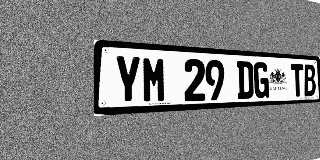2: (184, 58, 205, 101)
9: (205, 59, 225, 100)
B: (303, 64, 316, 96)
D: (237, 61, 254, 99)
G: (253, 62, 269, 98)
M: (142, 56, 167, 103)
T: (291, 64, 304, 97)
Y: (114, 55, 141, 104)
